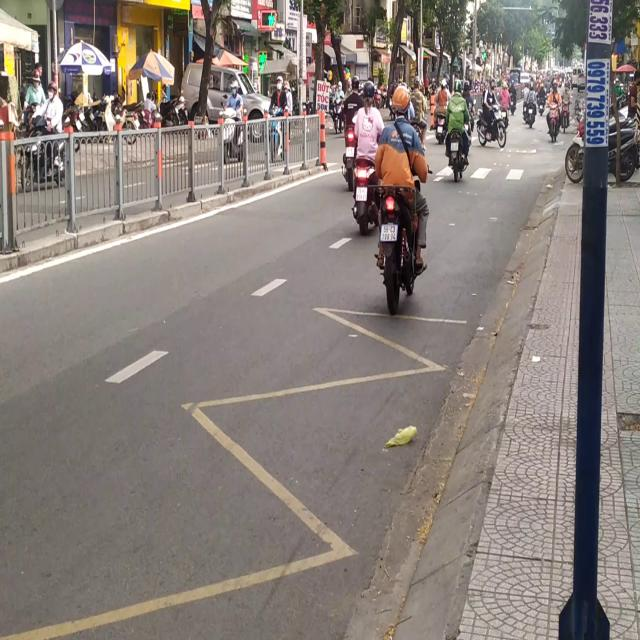bien_trang: (380, 220, 399, 243)
